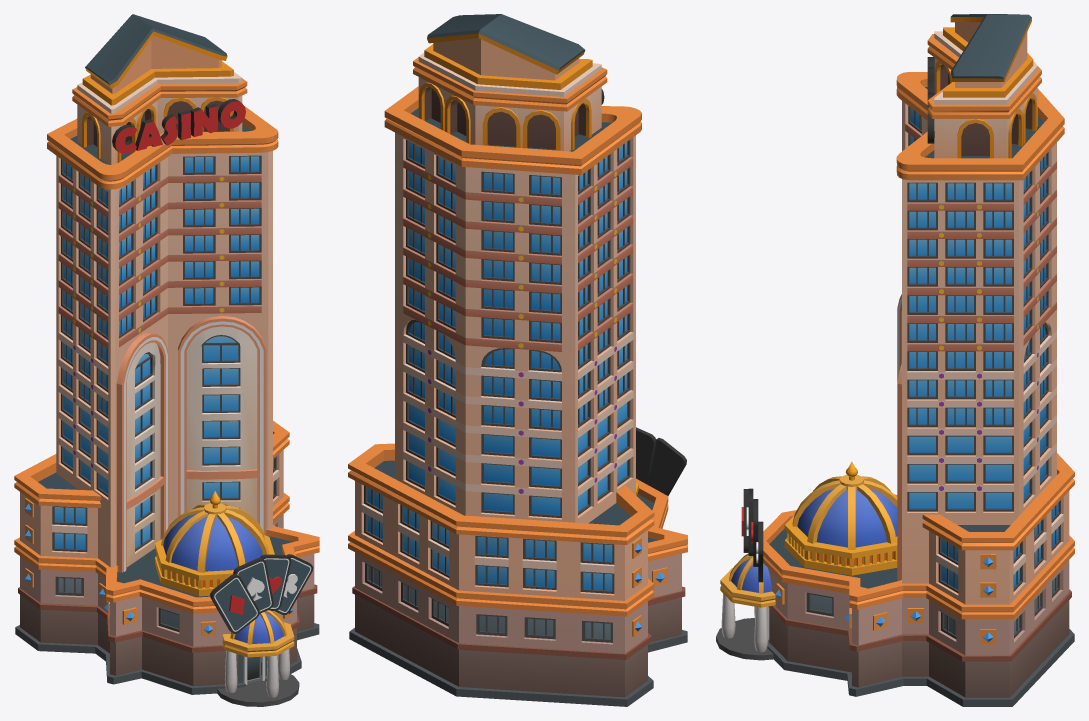
File: casino_001.glb
3 renders of one model, left to right at view 1: azimuth 30°, elevation 25°; view 2: azimuth 150°, elevation 25°; view 3: azimuth 270°, elevation 25°, orthographic. The views are drawn at different scales.
Visible parts, largest first — view 1: casino_001; view 2: casino_001; view 3: casino_001.
Part boxes in pixels (x1,y1,x2,y2): casino_001: (14,14,319,706); casino_001: (348,14,687,706); casino_001: (716,14,1074,706).
Bounding box in the file's own units: 19.58 × 43.11 × 22.37.
2 materials, 2 textured.
